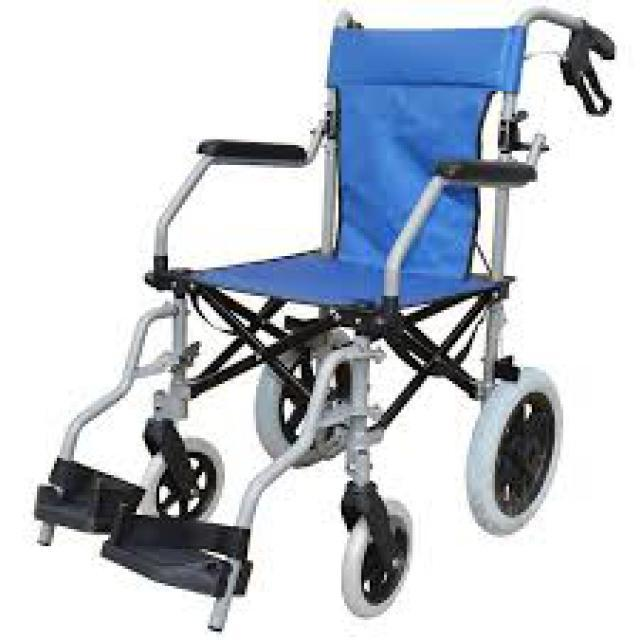wheelchairs: (40, 0, 605, 619)
